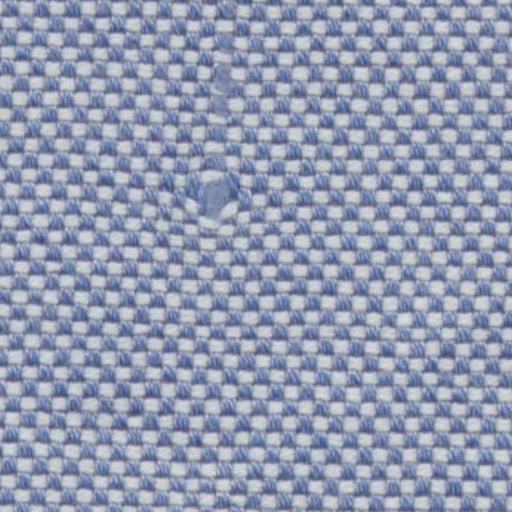PoDong: (156, 158, 274, 246)
